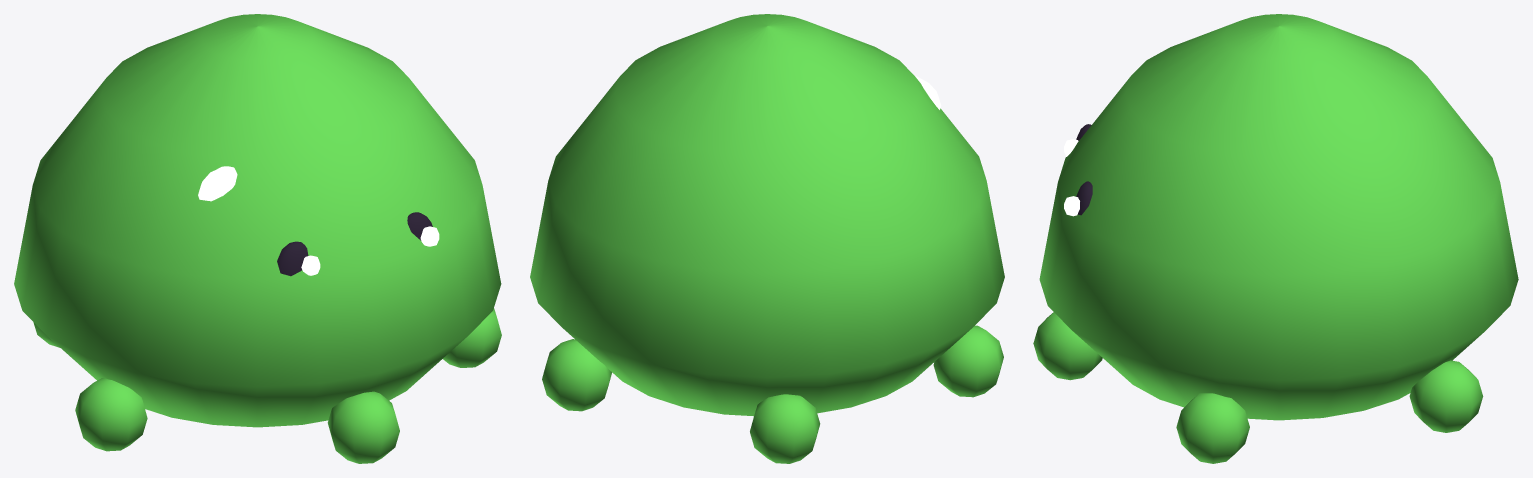
Rendered from mob_slime.glb.
The picture shows the model from 3 angles, left to right: view 1: azimuth 30°, elevation 25°; view 2: azimuth 150°, elevation 25°; view 3: azimuth 270°, elevation 25°; orthographic projection. The views are drawn at different scales.
Bounding box in the file's own units: 1.56 × 1.26 × 1.58.
